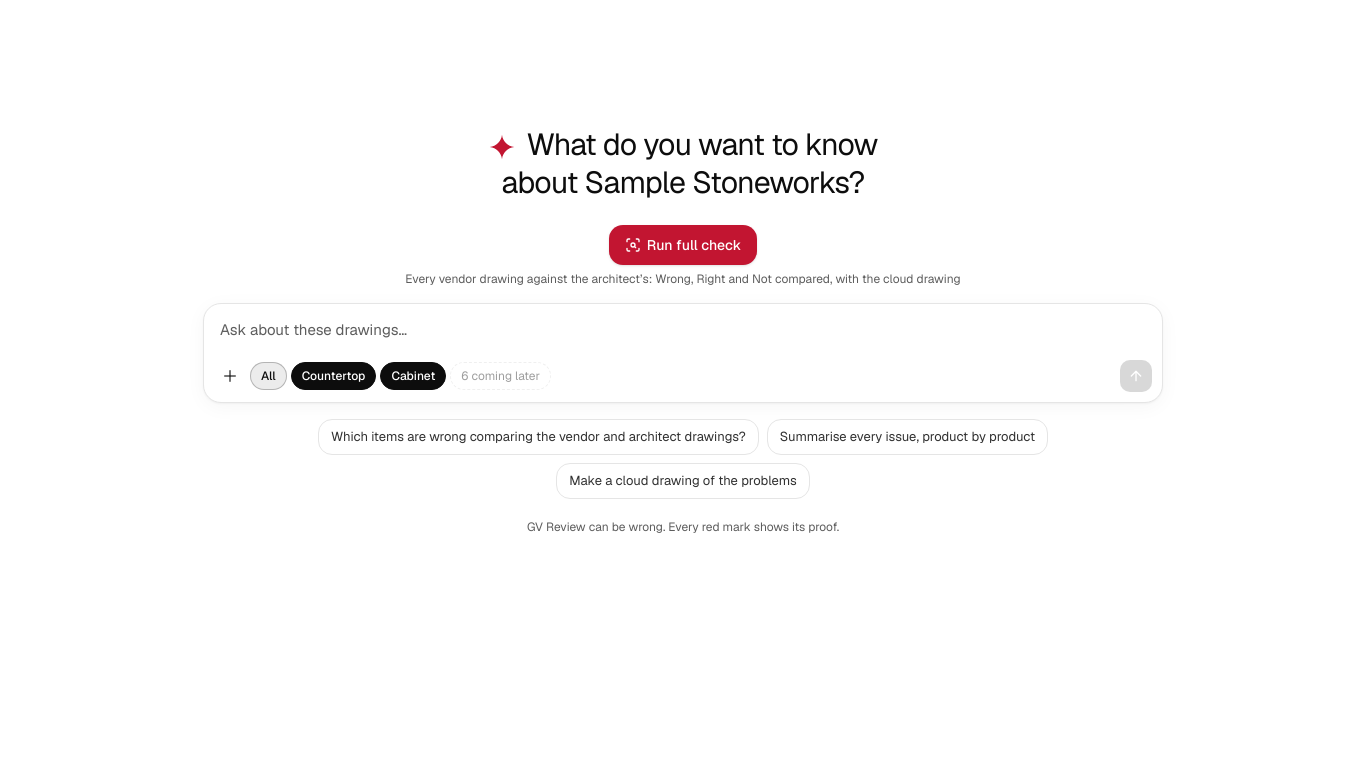
Test: the page around it › an empty chat centres the composer under the greeting, with the starters and the disclaimer; the first message moves it down
The image size is (1366, 768).
Expected: the text "GV Review can be wrong. Every red mark shows its proof." is shown, [527,519,839,535]
Click the 7th button at (538, 437), box [318,419,759,455]
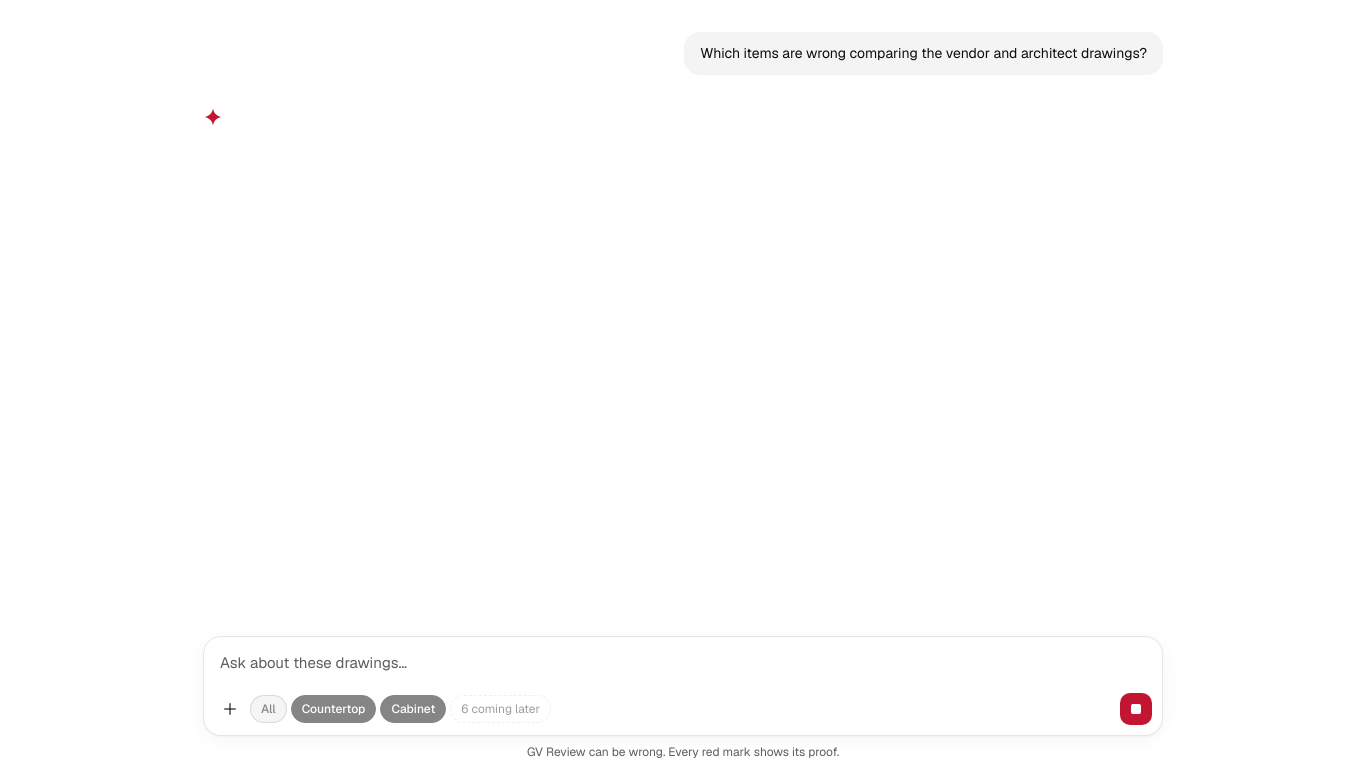
Now the button named "Stop response" is shown, box [1120,693,1152,725]
